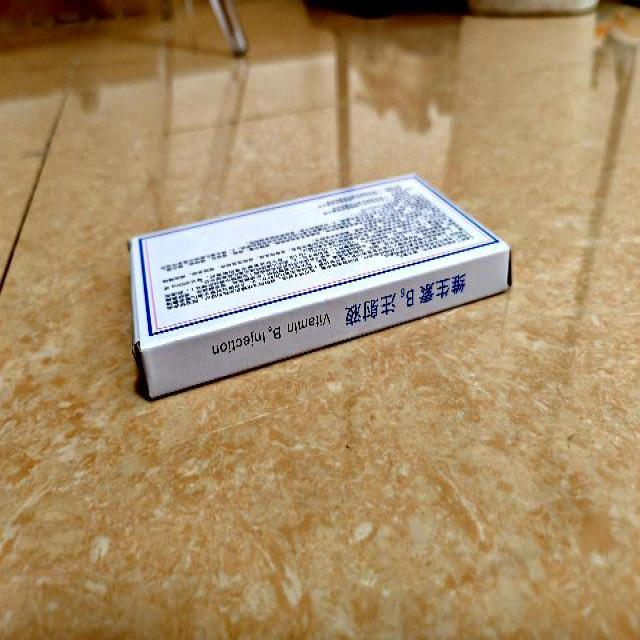box: (127, 174, 513, 402)
